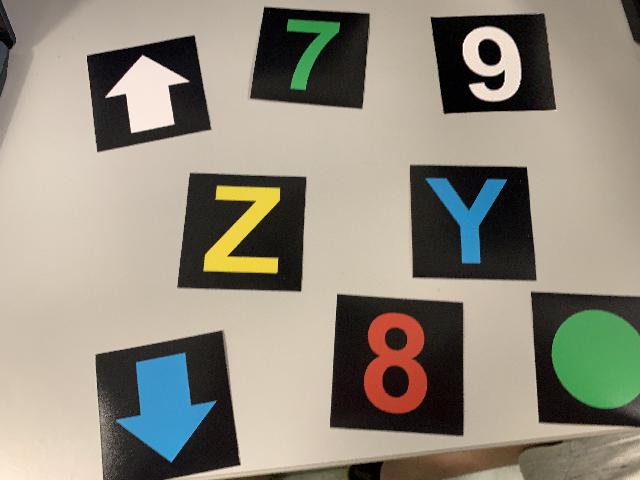alphabet_y: (408, 163, 538, 282)
alphabet_z: (175, 170, 308, 295)
down_arrow: (93, 328, 244, 478)
eight: (329, 292, 466, 438)
go: (530, 291, 640, 428)
nine: (431, 11, 557, 113)
seven: (249, 5, 372, 111)
up_arrow: (86, 33, 213, 153)
